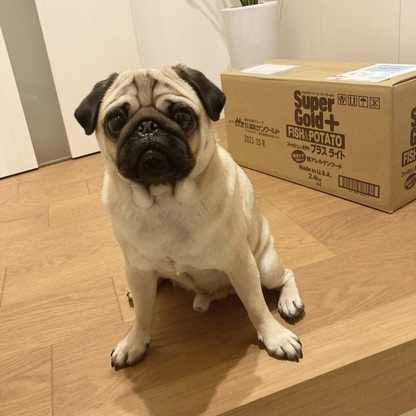Pug: (71, 59, 312, 374)
